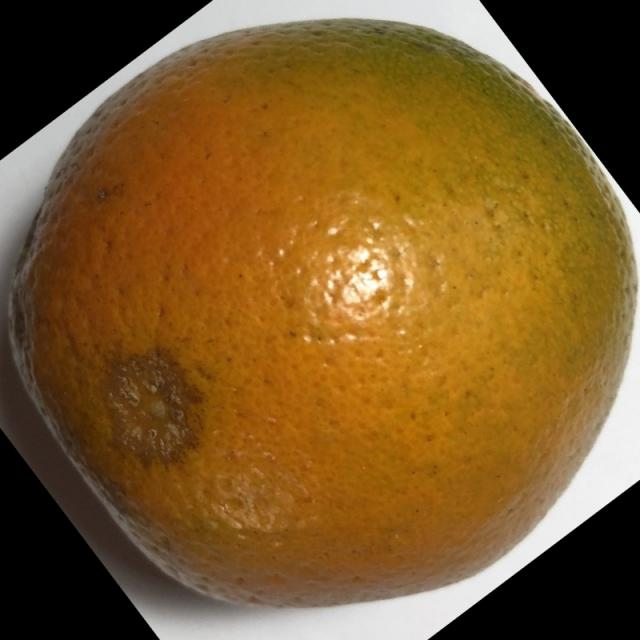canker: (12, 4, 640, 636)
